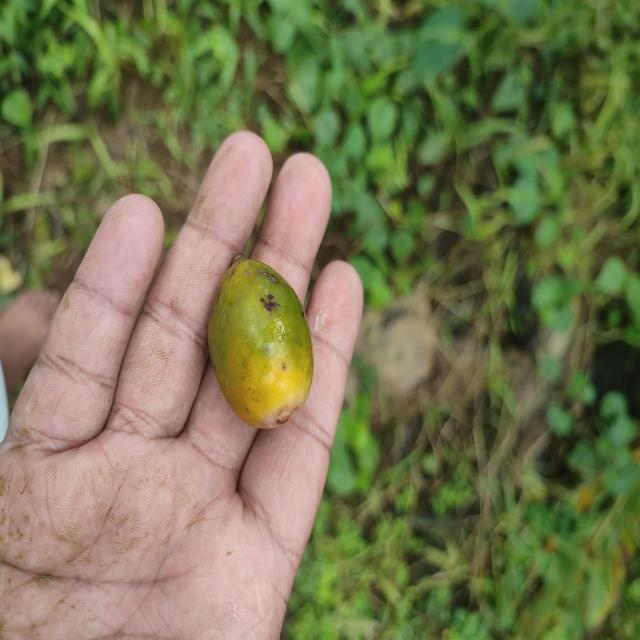damaged: (205, 259, 314, 431)
